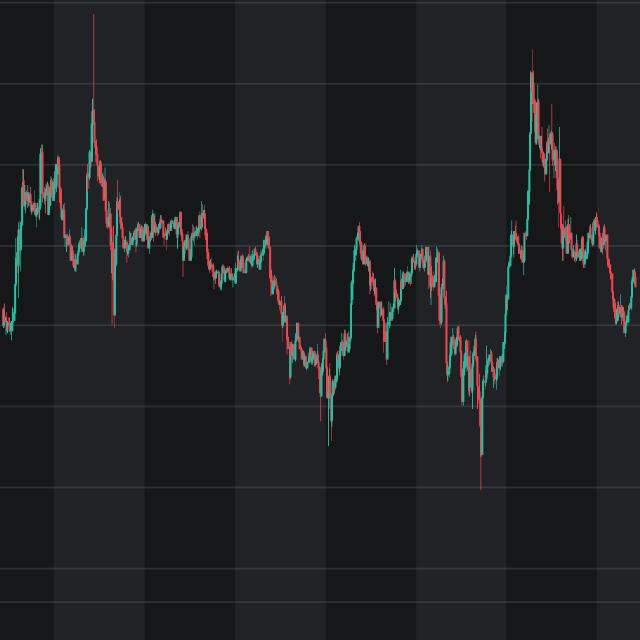Resistance-breakout: (389, 21, 545, 408)
